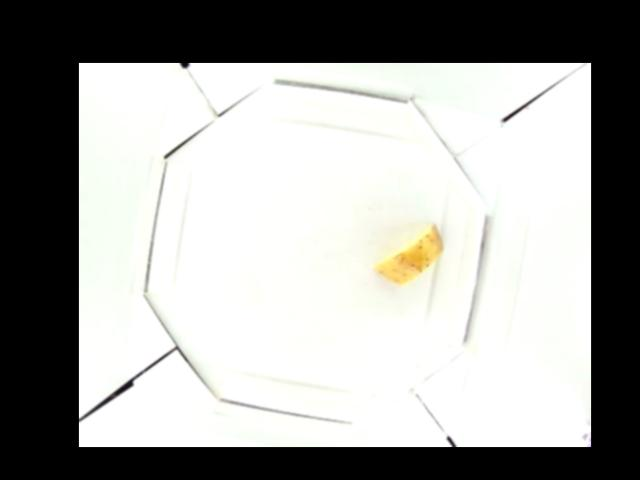Potato: (377, 223, 443, 285)
